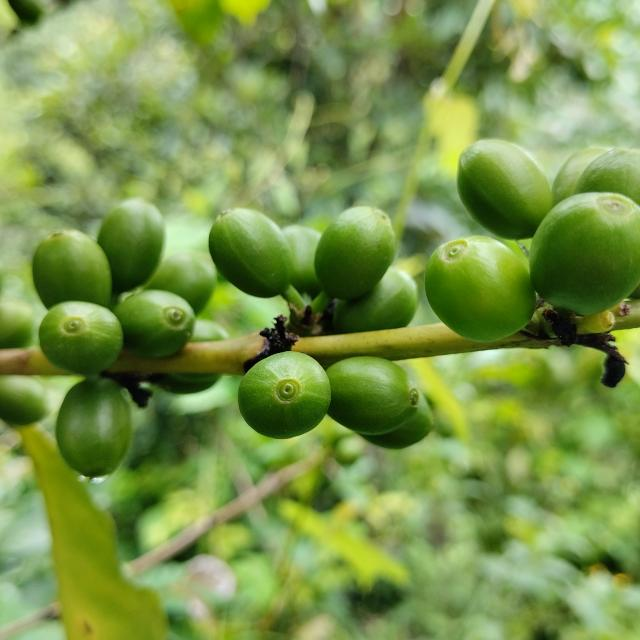green: (530, 192, 640, 315), (425, 235, 537, 342), (458, 139, 553, 239), (238, 352, 331, 439), (55, 377, 131, 479), (315, 206, 396, 300), (326, 356, 420, 435), (208, 208, 291, 297), (97, 198, 164, 293), (31, 229, 111, 308), (38, 301, 122, 375), (333, 266, 418, 334), (112, 289, 195, 358), (145, 251, 217, 314), (360, 393, 433, 449), (575, 146, 640, 205), (553, 146, 609, 205), (282, 225, 322, 297)
